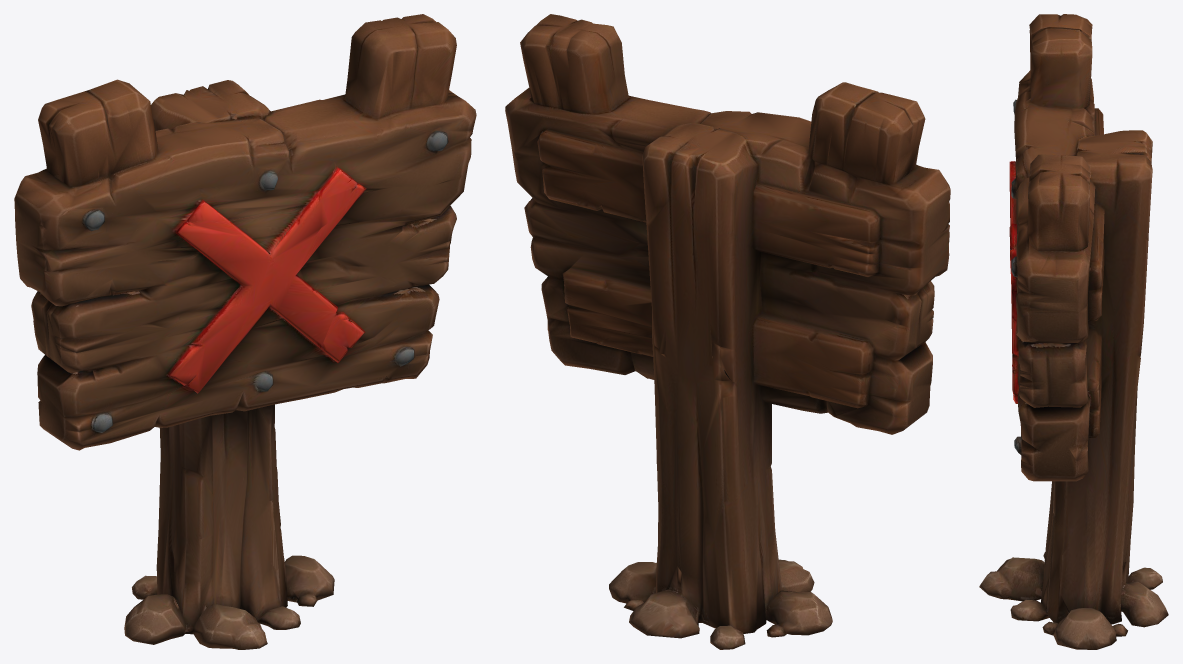
Rendered from letrero_de_madera.glb.
3 views of the same model, side by side, from view 1: azimuth 30°, elevation 25°; view 2: azimuth 150°, elevation 25°; view 3: azimuth 270°, elevation 25° (orthographic). The views are drawn at different scales.
Visible parts, largest first — view 1: letrero_de_madera; view 2: letrero_de_madera; view 3: letrero_de_madera.
Part boxes in pixels (x1=…): letrero_de_madera: x1=14, y1=14, x2=476, y2=649; letrero_de_madera: x1=505, y1=14, x2=950, y2=649; letrero_de_madera: x1=979, y1=14, x2=1168, y2=649.
Size of what is drawn, in the model's own units: 1.48 by 1.8 by 0.6026.
Materials: 1 (1 with a texture image).
